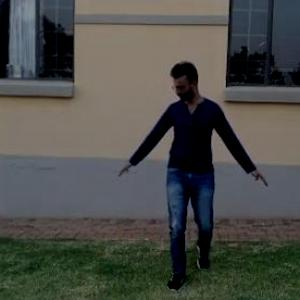land: (91, 47, 272, 278)
